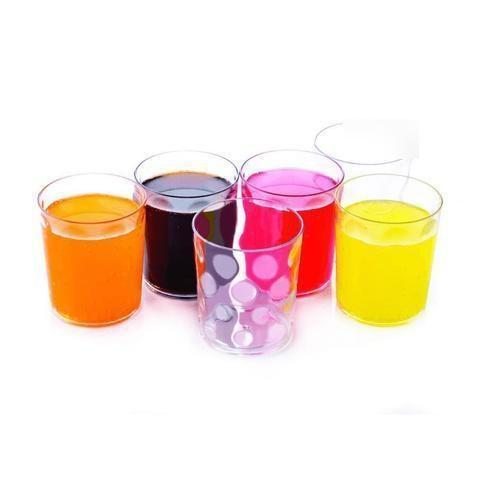glass-normal: (192, 196, 304, 357), (333, 171, 445, 328), (35, 170, 147, 327), (133, 148, 241, 298), (238, 149, 343, 297)
